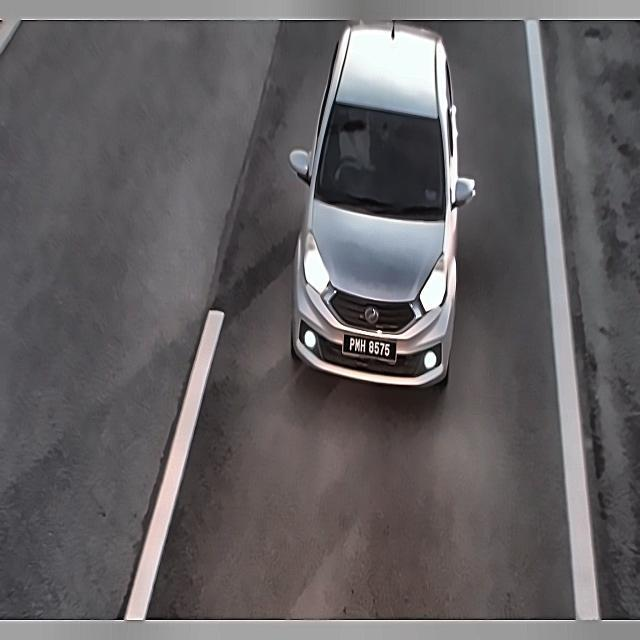car: (342, 323, 396, 363)
